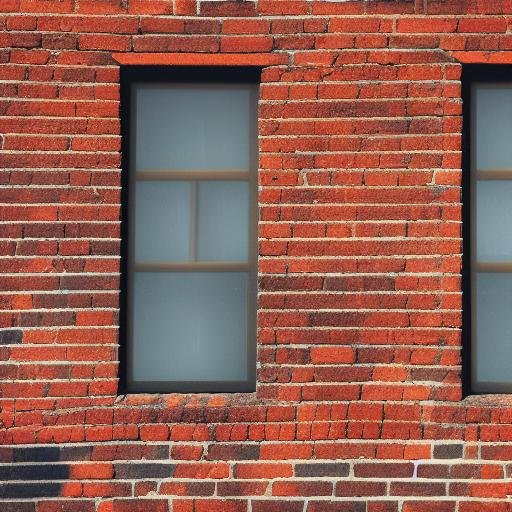Window: (114, 52, 264, 397)
